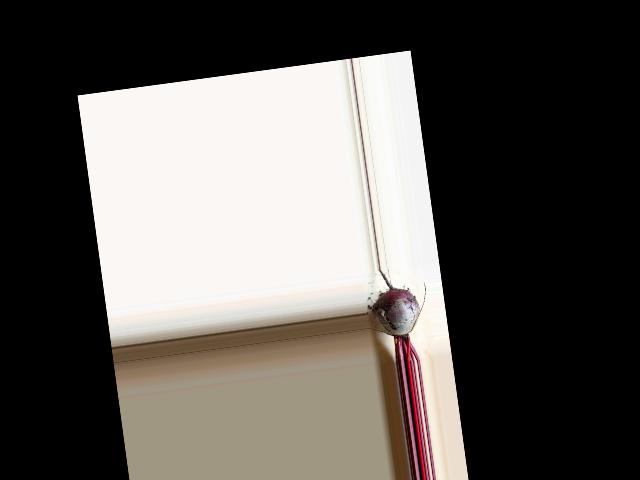beet: (367, 263, 435, 365)
